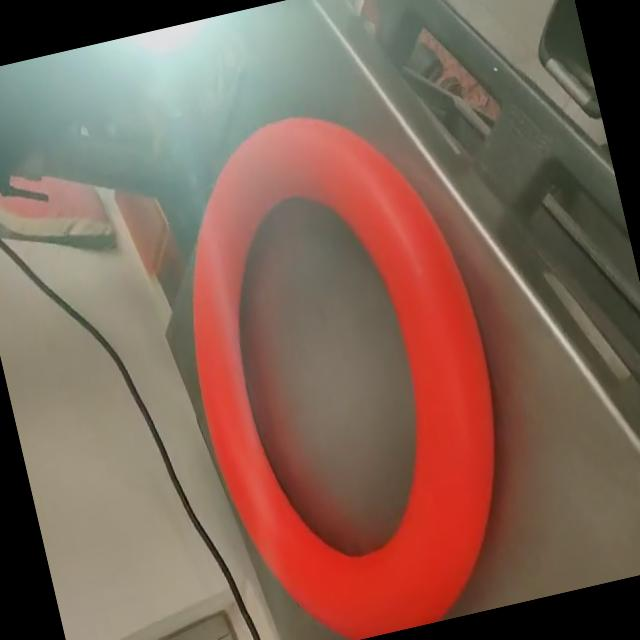note: (142, 88, 544, 640)
